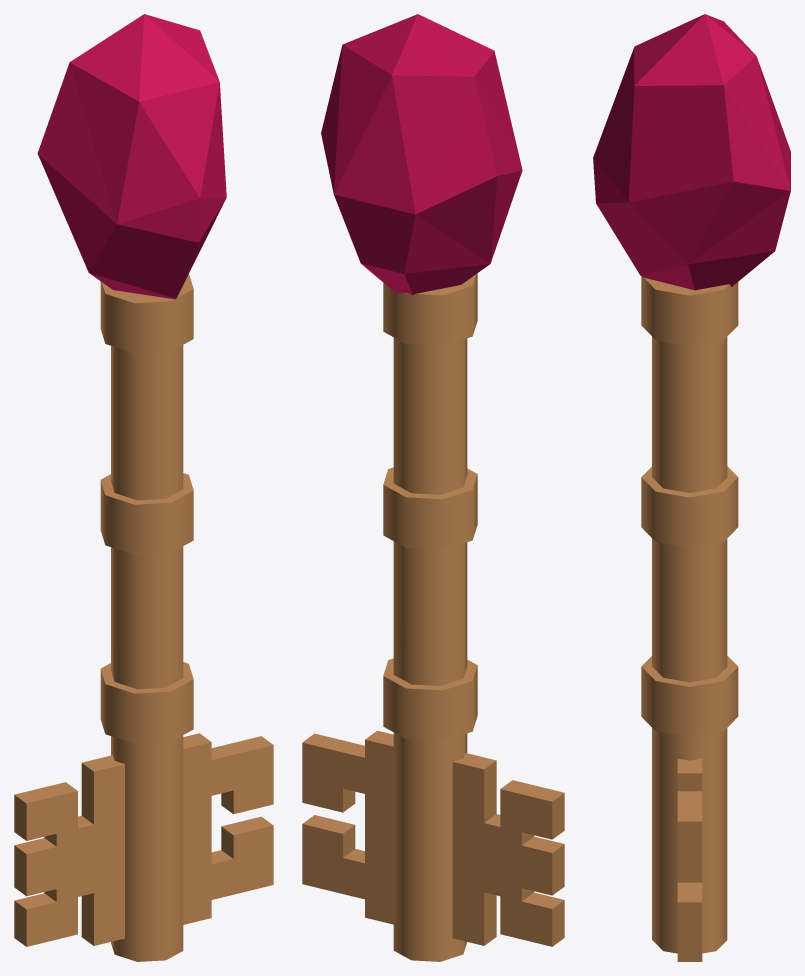
File: KeyGiperborea.fbx
3 views of the same model, side by side, from view 1: azimuth 30°, elevation 25°; view 2: azimuth 150°, elevation 25°; view 3: azimuth 270°, elevation 25° (orthographic).
Visible parts, largest first — view 1: Cylinder.001, cristal; view 2: Cylinder.001, cristal; view 3: Cylinder.001, cristal.
Boxes of the visible parts, x1=… form: Cylinder.001: x1=14, y1=274, x2=273, y2=961; cristal: x1=37, y1=14, x2=226, y2=299; Cylinder.001: x1=302, y1=273, x2=564, y2=961; cristal: x1=321, y1=14, x2=522, y2=295; Cylinder.001: x1=641, y1=276, x2=738, y2=961; cristal: x1=593, y1=14, x2=790, y2=290.
Bounding box in the file's own units: 8.16 × 29.21 × 5.64.
